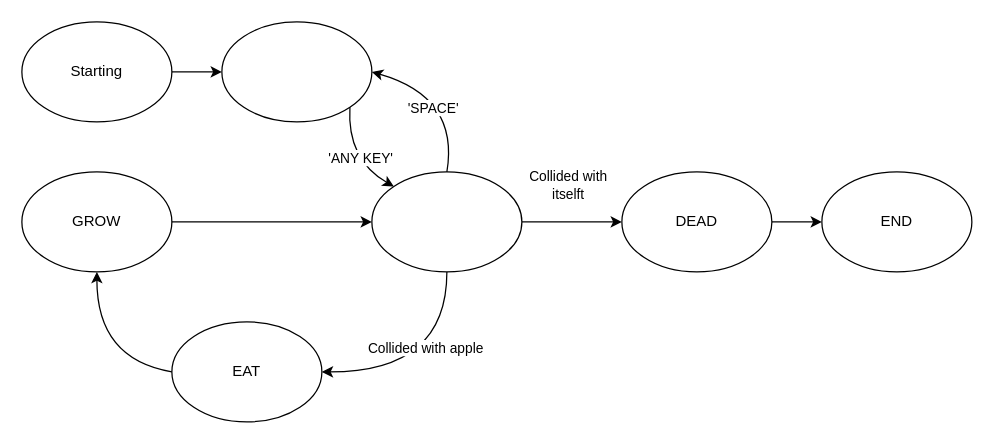
This 994x444 diagram has some shape labels left out. The shapes that lost their labels are listed below. From the top down, each one's centre as x and y in pixels, then its label:
(296,71): STOP
(446,221): MOVE
